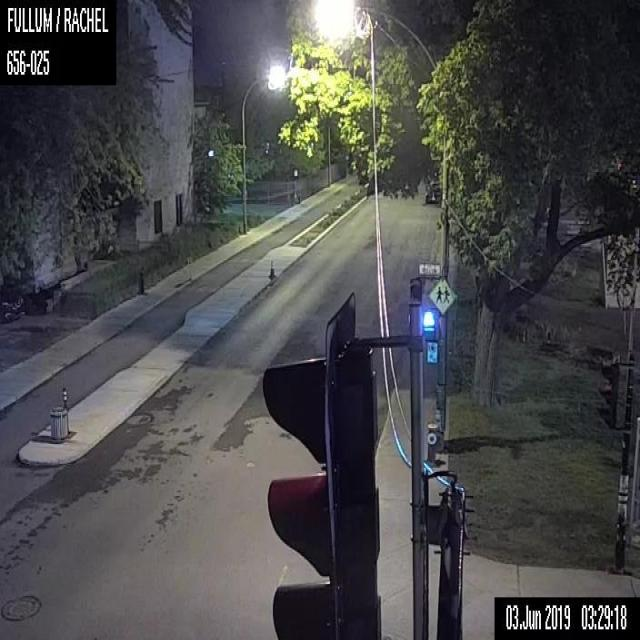construction: (268, 259, 275, 277)
vehicle: (0, 284, 25, 319), (425, 186, 441, 202)
